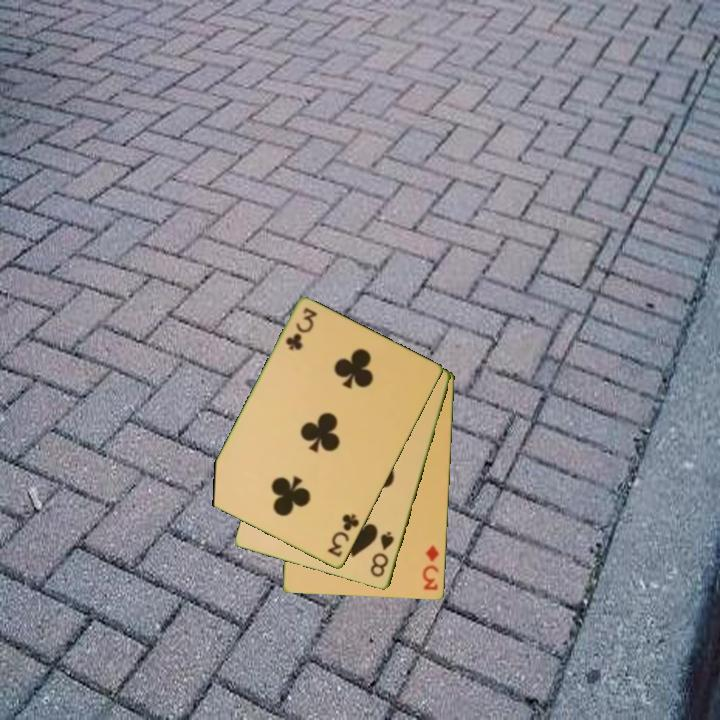3c: (324, 510, 362, 561), (282, 304, 320, 354)
3d: (419, 542, 442, 593)
8s: (367, 528, 397, 580)
